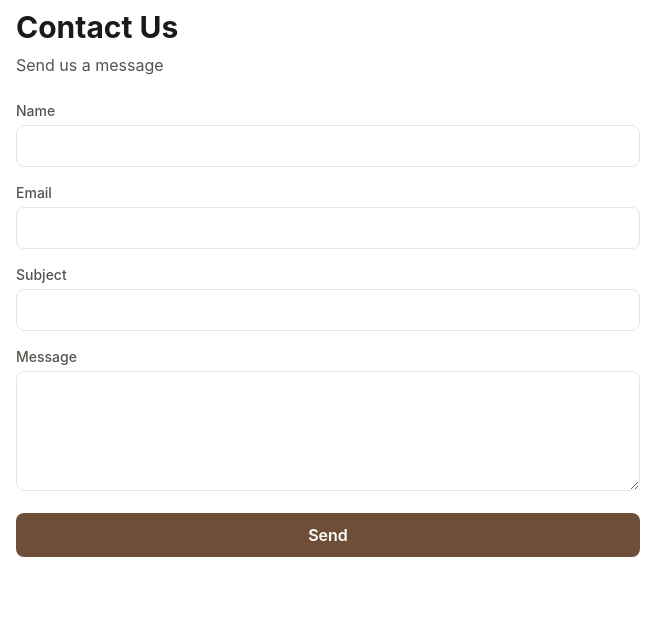
it: ContactPage › shows error message on API failure
Type "Bob" into the field named "name" at (328, 146), box [16, 125, 640, 167]
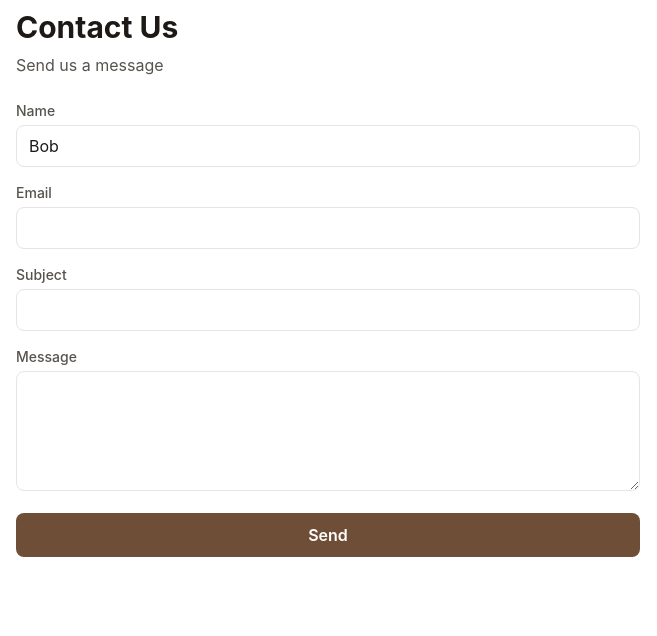
Type "bob@example.com" into the field named "email" at (328, 228), box [16, 207, 640, 249]
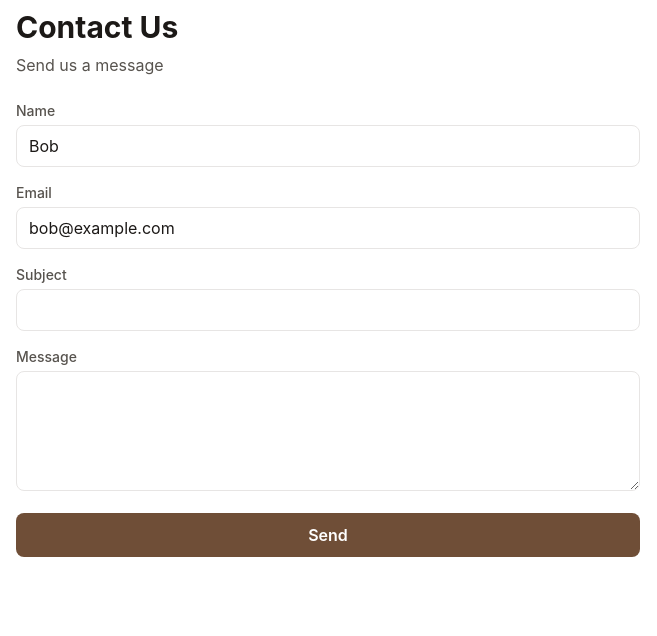
Type "Error Test" into the field named "subject" at (328, 310), box [16, 289, 640, 331]
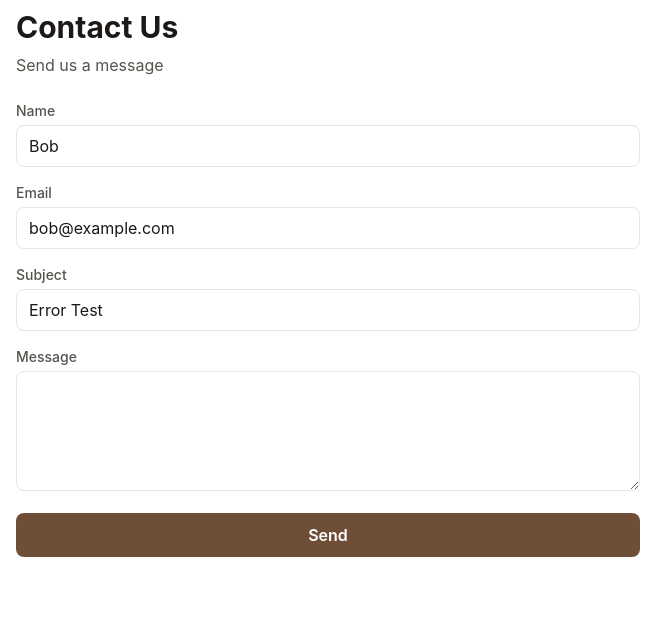
Type "This should fail." into the text box named "message" at (328, 431), box [16, 371, 640, 491]
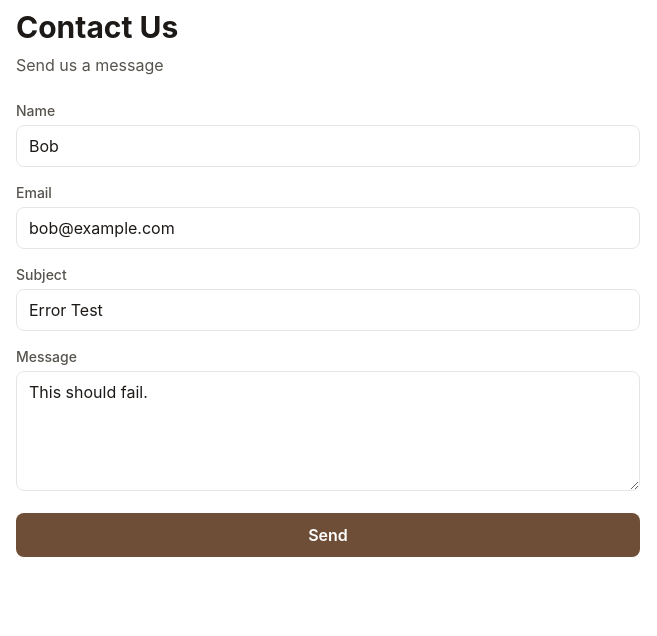
Click the button "Send" at (328, 535), box [16, 513, 640, 557]
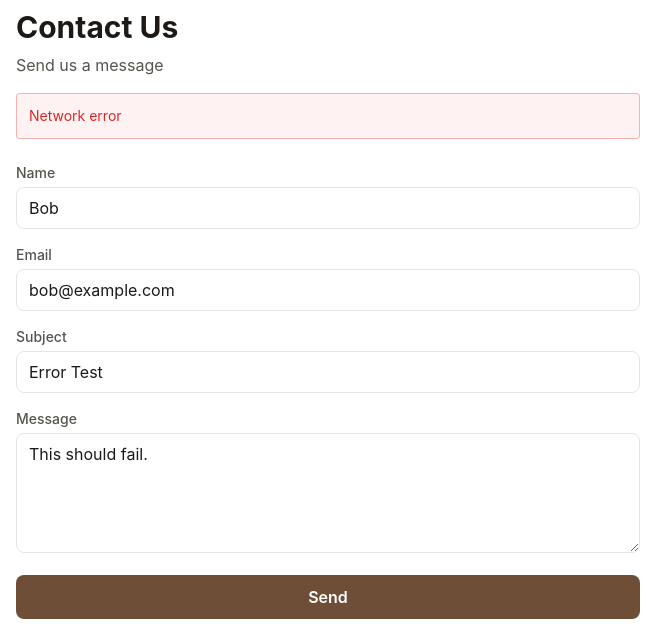
Now the text "Network error" is shown, box [16, 93, 640, 139]
